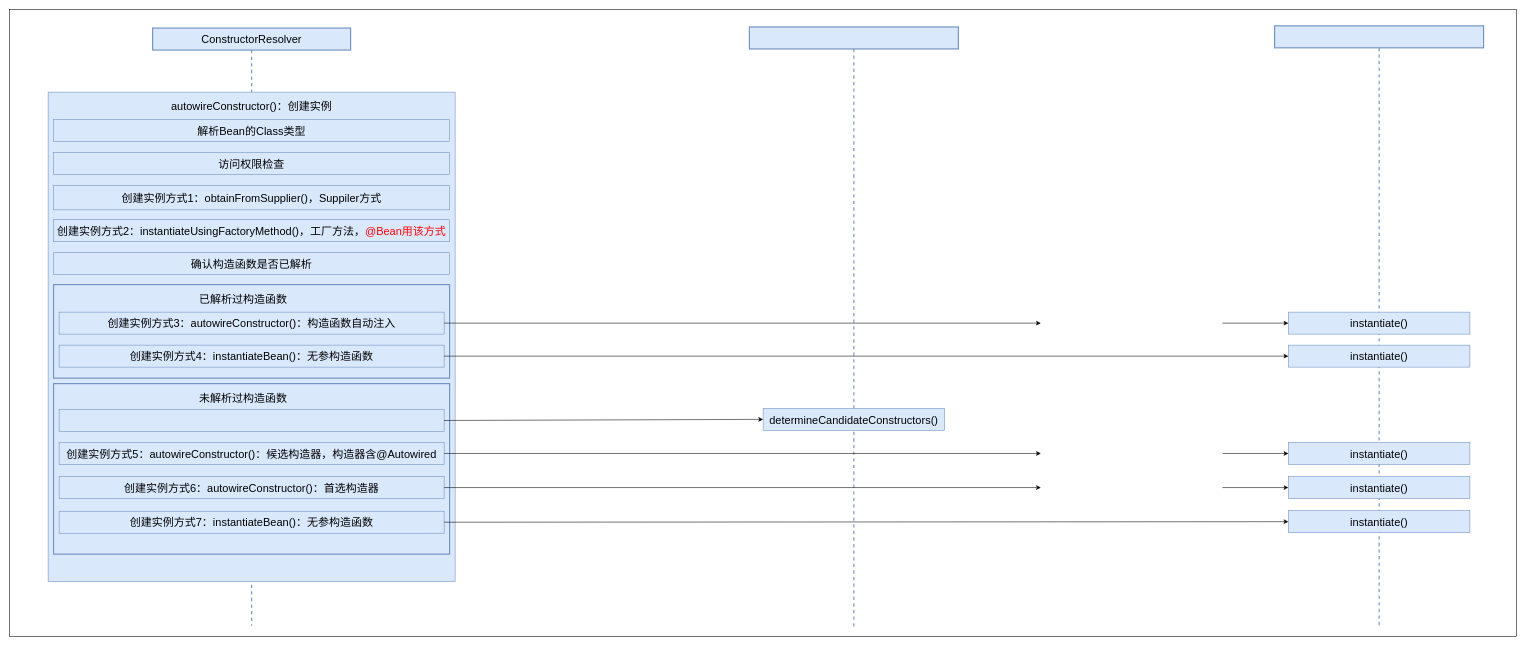
This 1526x646 diagram has some shape labels left out. The box of each missing label's shape, as (x1, y1, x2, y2) in pixels:
AutowiredAnnotationBeanPostProcessor: (749, 26, 959, 627)
SimpleInstantiationStrategy: (1274, 25, 1484, 626)
确定候选构造函数determineConstructorsFromBeanPostProcessors: (59, 409, 444, 431)
